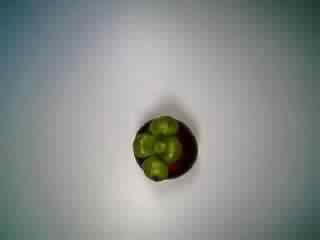mangosteen: (126, 110, 200, 182)
